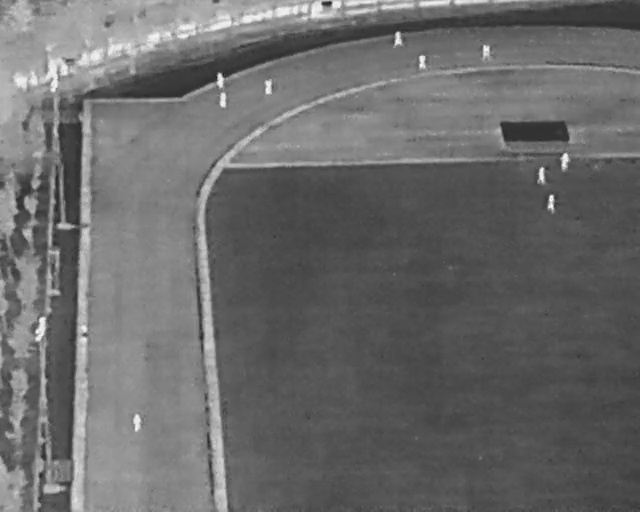Person: (560, 152, 571, 173), (132, 413, 142, 432), (537, 166, 546, 185), (482, 44, 491, 62), (393, 30, 402, 48), (547, 194, 555, 213), (217, 71, 225, 89), (264, 79, 273, 95), (219, 93, 227, 109), (81, 326, 88, 342), (419, 54, 426, 70)
